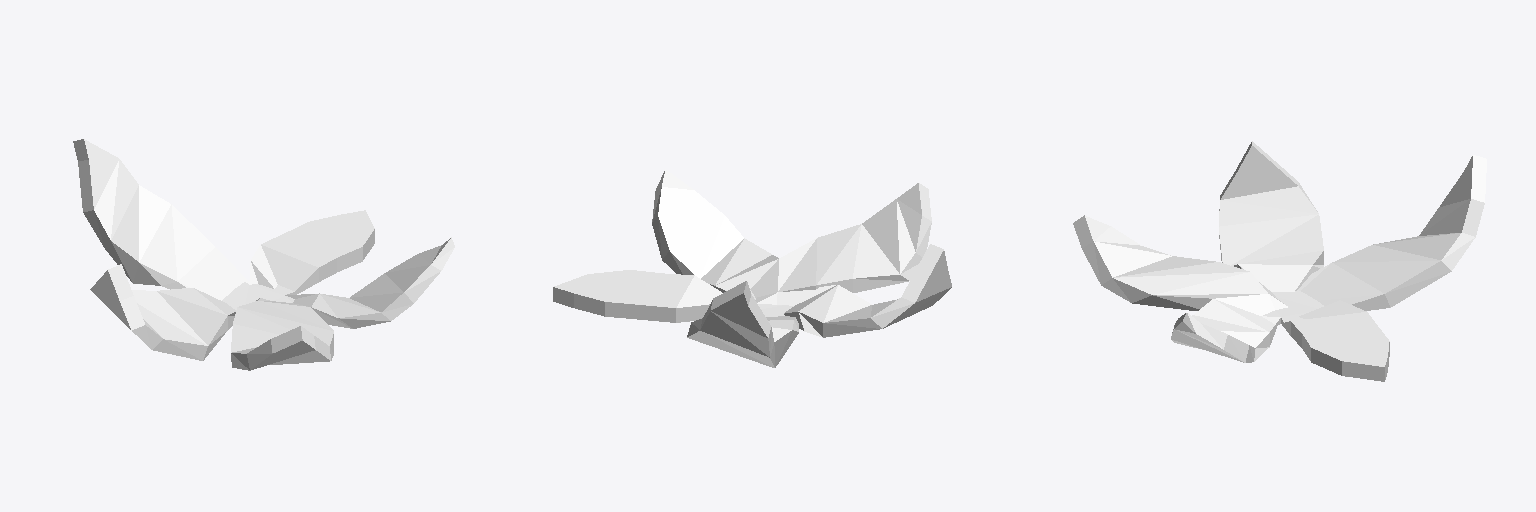
Rendered from flower-wind.obj.
3 renders of one model, left to right at view 1: azimuth 30°, elevation 25°; view 2: azimuth 150°, elevation 25°; view 3: azimuth 270°, elevation 25°, orthographic.
Visible parts, largest first — view 1: flower-wind; view 2: flower-wind; view 3: flower-wind.
Boxes of the visible parts, x1,y1,x2,y2 form: flower-wind: [73, 139, 454, 370]; flower-wind: [553, 169, 951, 367]; flower-wind: [1073, 141, 1486, 381].
Size of the model in its own units: 0.1026 by 0.0391 by 0.1135.